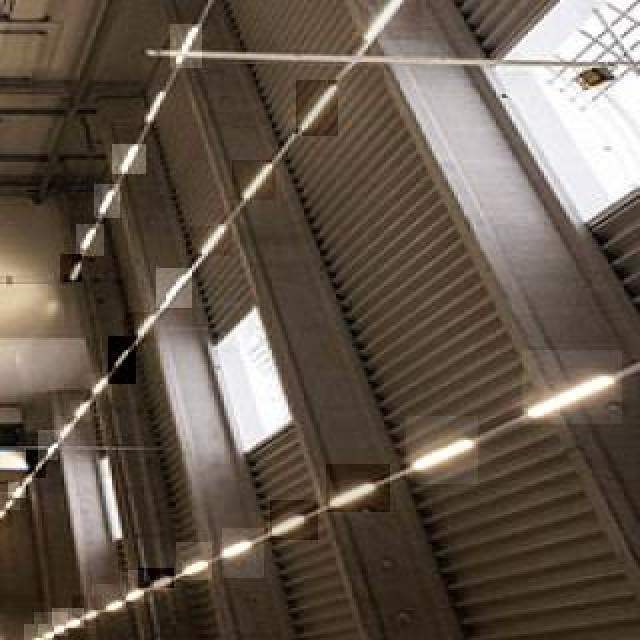fluorescent tube: (350, 0, 424, 44), (233, 151, 280, 218), (306, 73, 346, 135), (100, 135, 155, 178), (141, 78, 183, 133), (171, 542, 218, 589), (256, 500, 309, 540), (151, 267, 196, 311), (220, 522, 264, 565), (193, 216, 243, 251), (333, 480, 385, 513), (171, 18, 202, 71), (77, 212, 115, 252), (94, 184, 131, 218), (104, 344, 138, 372), (35, 432, 60, 464), (63, 400, 94, 424), (122, 578, 151, 602), (61, 263, 83, 285)
